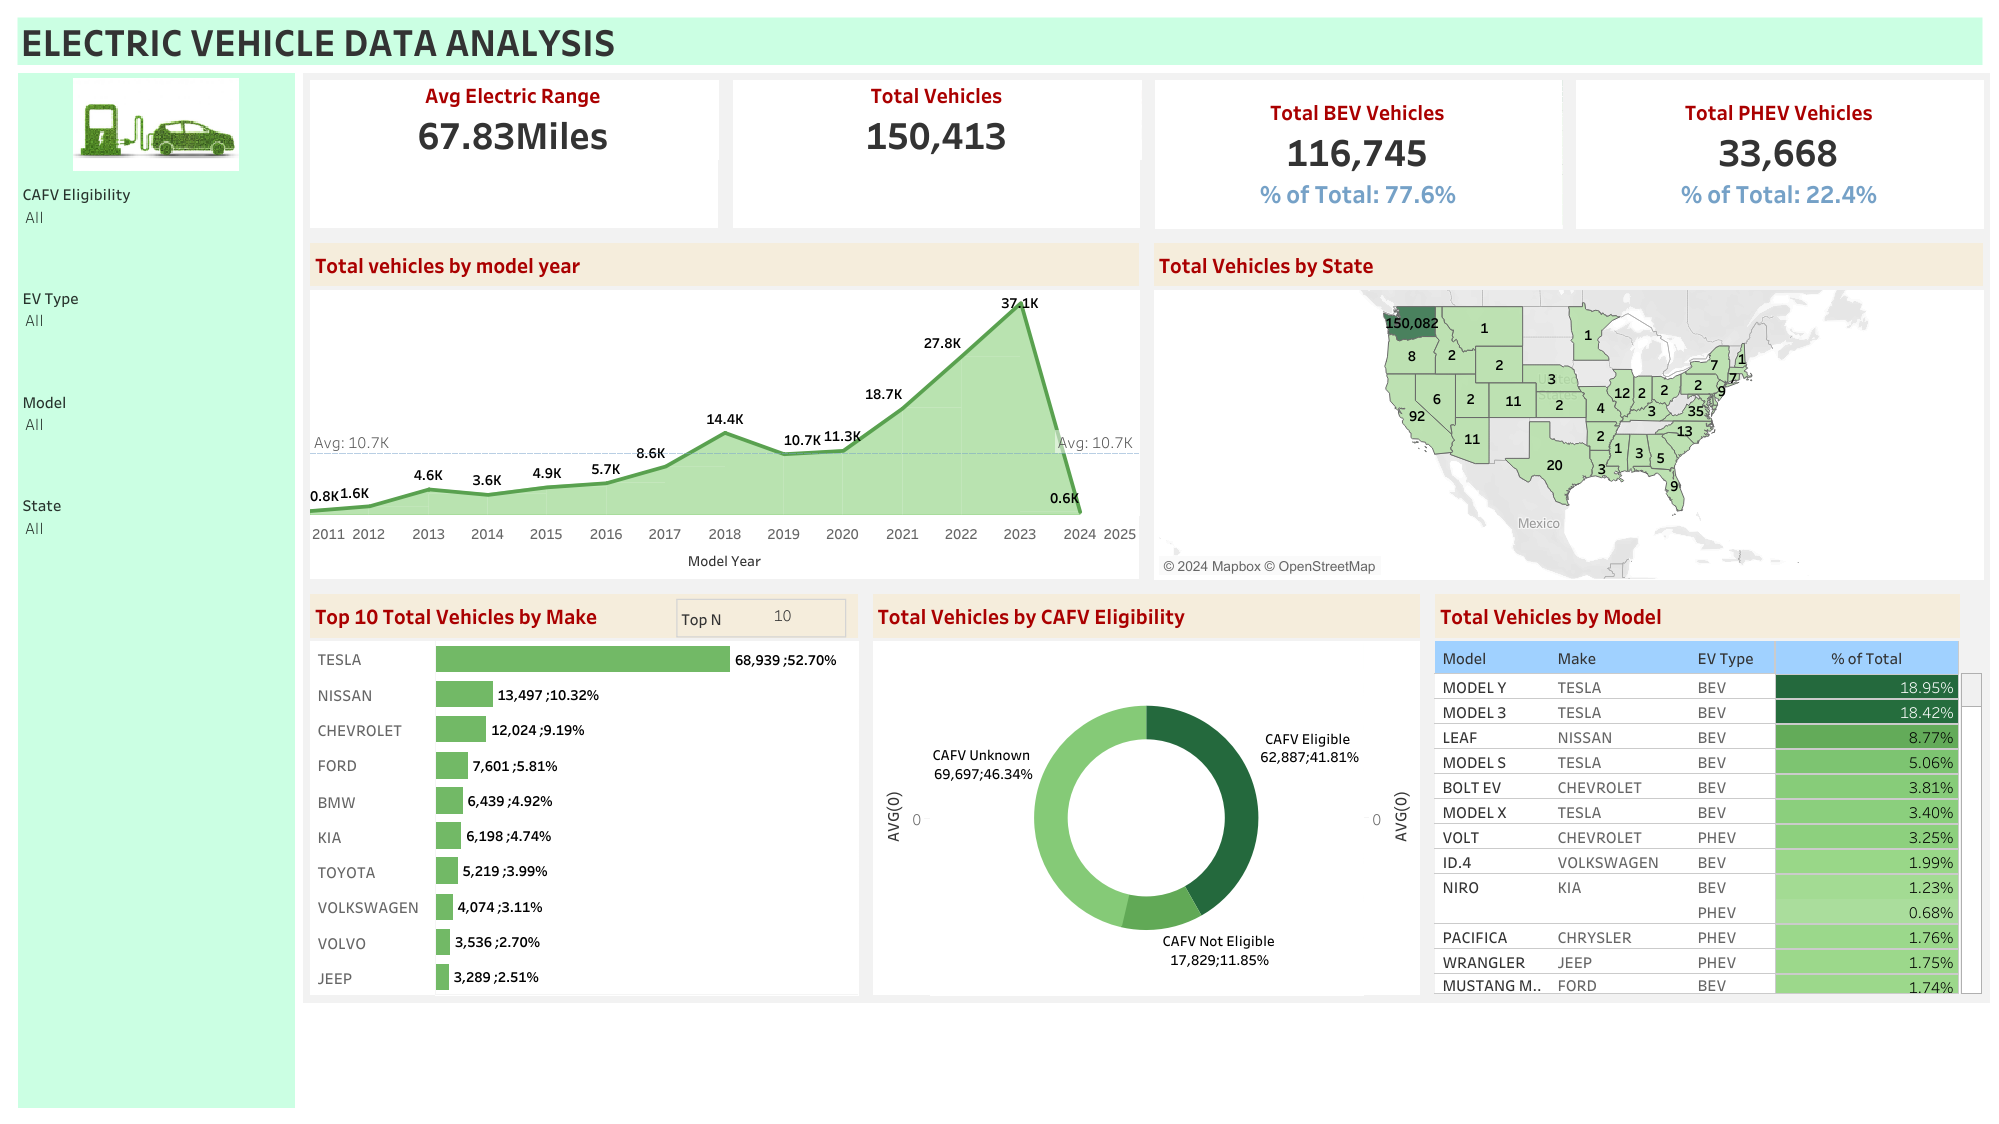

The page's visual inventory and layout, read from the dashboard file:
{"tool":"tableau","page":{"name":"Dashboard 1","canvas":[1600,900],"ordinal":0},"visuals":[{"type":"title","box":[8,8,1584,50]},{"type":"image","param":"E:/cdata/pictures/Green EV car.jpg","box":[14,58,222,83]},{"type":"worksheet","title":"Avg Electric Range","mark":"Automatic","box":[242,58,338,130]},{"type":"worksheet","title":"Total Vehicles","mark":"Automatic","box":[580,58,338,130]},{"type":"worksheet","title":"Total BEV Vehicles","mark":"Automatic","box":[918,58,337,130]},{"type":"worksheet","title":"Total PHEV Vehicles ","mark":"Automatic","box":[1255,58,337,130]},{"type":"filter","title":"Total vehicles by model year","param":"[federated.1wryx0n0py6w6v1azeyqt0s9h6ch].[none:Clean Alternative Fuel Vehicle (C","box":[14,141,222,83]},{"type":"worksheet","title":"Total vehicles by model year","mark":"Area","rows":["Calculation_722264811047989249","Calculation_722264811047989249"],"cols":["Model Year"],"box":[242,188,675,281]},{"type":"worksheet","title":"Total Vehicles by State","mark":"Multipolygon","box":[917,188,675,281]},{"type":"filter","title":"Total vehicles by model year","param":"[federated.1wryx0n0py6w6v1azeyqt0s9h6ch].[none:Electric Vehicle Type:nk]","box":[14,224,222,83]},{"type":"filter","title":"Total vehicles by model year","param":"[federated.1wryx0n0py6w6v1azeyqt0s9h6ch].[none:Model:nk]","box":[14,307,222,83]},{"type":"filter","title":"Total vehicles by model year","param":"[federated.1wryx0n0py6w6v1azeyqt0s9h6ch].[none:State:nk]","box":[14,390,222,83]},{"type":"worksheet","title":"Top 10 Total Vehicles by Make","mark":"Automatic","rows":["Make"],"cols":["Calculation_722264811047989249"],"box":[242,469,450,333]},{"type":"worksheet","title":"Total Vehicles by CAFV Eligibility","mark":"Pie","rows":["Calculation_722264811170283529","Calculation_722264811170283529"],"box":[692,469,450,333]},{"type":"worksheet","title":"Total Vehicles by Model","mark":"Square","rows":["Model","Make","Electric Vehicle Type"],"box":[1142,469,450,333]},{"type":"blank","box":[14,473,222,83]},{"type":"parameter","param":"[Parameters].[Parameter 1]","box":[541,479,136,31]},{"type":"blank","box":[14,556,222,83]},{"type":"blank","box":[14,639,222,83]},{"type":"blank","box":[14,722,222,82]},{"type":"blank","box":[242,801.9,1350,90]},{"type":"blank","box":[14,804,222,82]}]}

Visuals, with their boxes in screenshot pixels (x1, y1, x2, y2), scaled from the page's 1600x900 canvas onto the 1999x1124 screenshot:
title: {"left": 10, "top": 10, "right": 1989, "bottom": 72}
image: {"left": 17, "top": 72, "right": 295, "bottom": 176}
"Avg Electric Range" worksheet: {"left": 302, "top": 72, "right": 725, "bottom": 235}
"Total Vehicles" worksheet: {"left": 725, "top": 72, "right": 1147, "bottom": 235}
"Total BEV Vehicles" worksheet: {"left": 1147, "top": 72, "right": 1568, "bottom": 235}
"Total PHEV Vehicles " worksheet: {"left": 1568, "top": 72, "right": 1989, "bottom": 235}
"Total vehicles by model year" filter: {"left": 17, "top": 176, "right": 295, "bottom": 280}
"Total vehicles by model year" worksheet (Area marks): {"left": 302, "top": 235, "right": 1146, "bottom": 586}
"Total Vehicles by State" worksheet (Multipolygon marks): {"left": 1146, "top": 235, "right": 1989, "bottom": 586}
"Total vehicles by model year" filter: {"left": 17, "top": 280, "right": 295, "bottom": 383}
"Total vehicles by model year" filter: {"left": 17, "top": 383, "right": 295, "bottom": 487}
"Total vehicles by model year" filter: {"left": 17, "top": 487, "right": 295, "bottom": 591}
"Top 10 Total Vehicles by Make" worksheet: {"left": 302, "top": 586, "right": 865, "bottom": 1002}
"Total Vehicles by CAFV Eligibility" worksheet (Pie marks): {"left": 865, "top": 586, "right": 1427, "bottom": 1002}
"Total Vehicles by Model" worksheet (Square marks): {"left": 1427, "top": 586, "right": 1989, "bottom": 1002}
blank: {"left": 17, "top": 591, "right": 295, "bottom": 694}
parameter: {"left": 676, "top": 598, "right": 846, "bottom": 637}
blank: {"left": 17, "top": 694, "right": 295, "bottom": 798}
blank: {"left": 17, "top": 798, "right": 295, "bottom": 902}
blank: {"left": 17, "top": 902, "right": 295, "bottom": 1004}
blank: {"left": 302, "top": 1001, "right": 1989, "bottom": 1114}
blank: {"left": 17, "top": 1004, "right": 295, "bottom": 1107}
